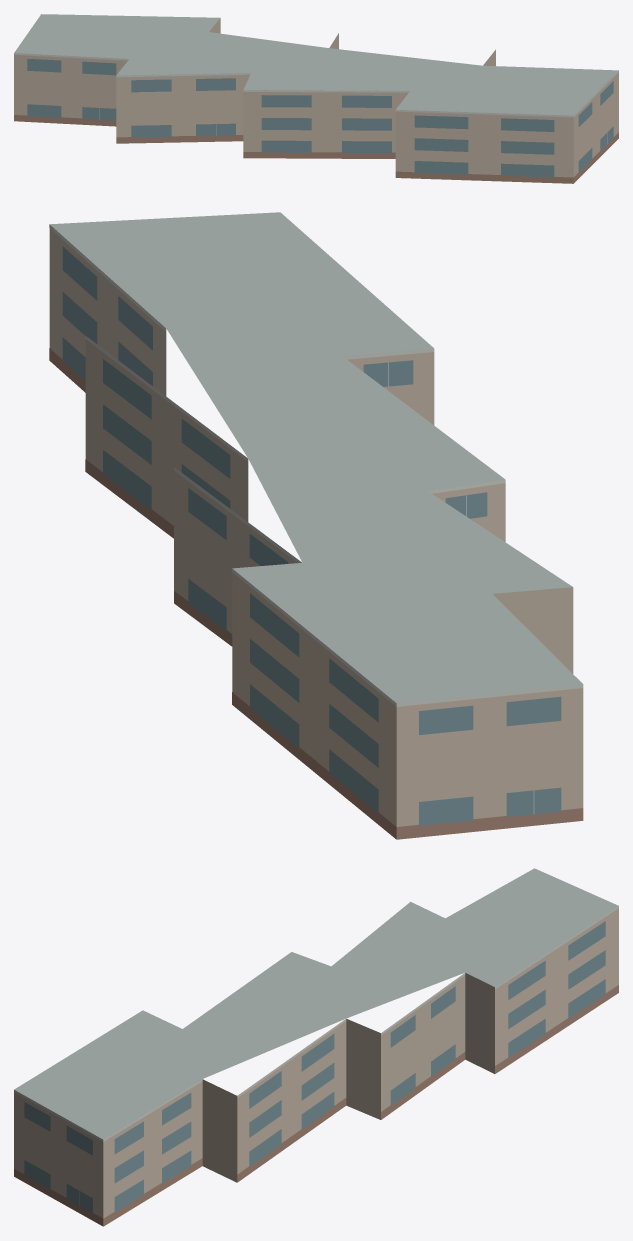
Rendered from survey-upis-33024450.glb.
The picture shows the model from 3 angles, top to bottom: view 1: azimuth 30°, elevation 25°; view 2: azimuth 150°, elevation 25°; view 3: azimuth 270°, elevation 25°; orthographic projection. The views are drawn at different scales.
Visible parts, largest first — view 1: survey-upis-33024450.tmp; view 2: survey-upis-33024450.tmp; view 3: survey-upis-33024450.tmp.
Boxes of the visible parts, x1,y1,x2,y2 form: survey-upis-33024450.tmp: [14, 14, 618, 183]; survey-upis-33024450.tmp: [49, 212, 583, 839]; survey-upis-33024450.tmp: [14, 868, 618, 1226].
Size of the model in its own units: 61.21 by 9.15 by 57.66.
